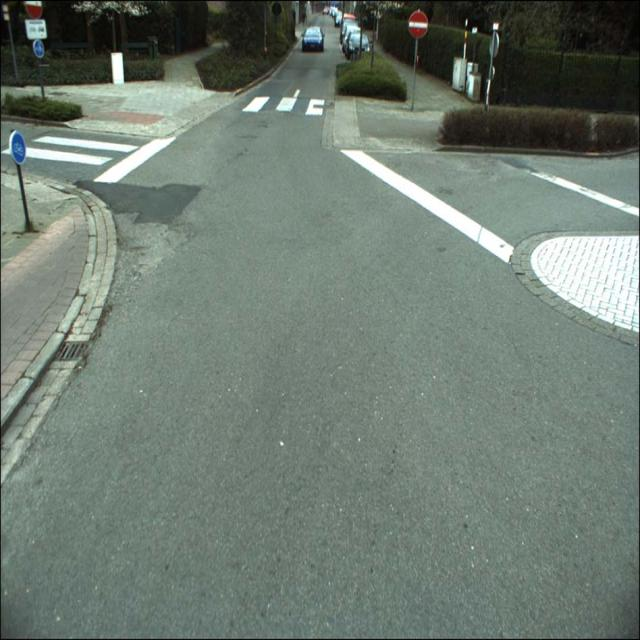girisyok: (408, 12, 428, 40)
